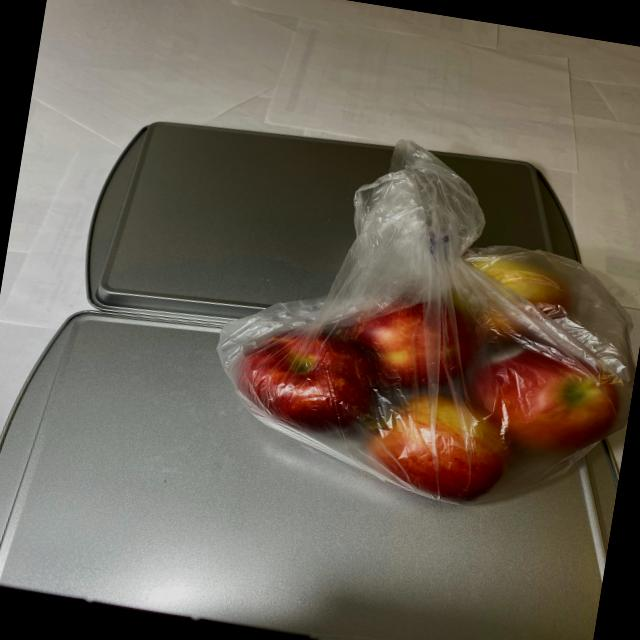apple: (215, 173, 640, 534)
